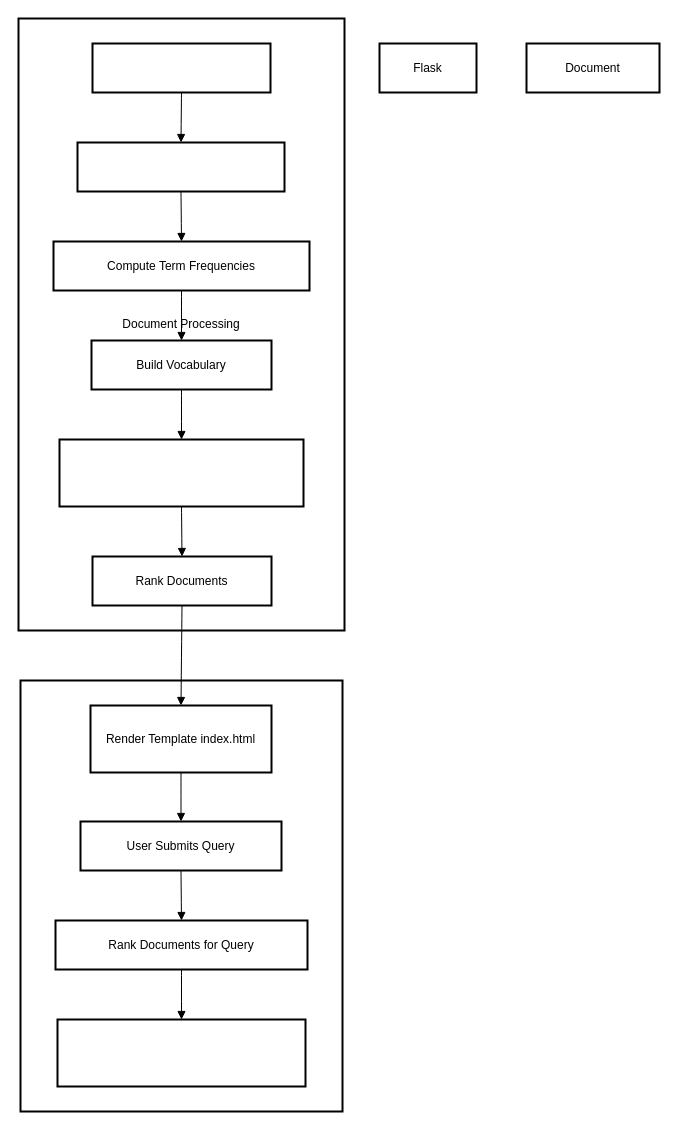
This 677x1129 diagram has some shape labels left out. Each missing label, with the box of its shape:
Compute Probabilities for Queries: (58, 438, 304, 507)
Flask Application: (19, 679, 343, 1112)
Load Documents: (91, 42, 271, 93)
Return Ranked Documents as JSON: (56, 1018, 306, 1087)
Tokenize Documents: (76, 141, 285, 192)
